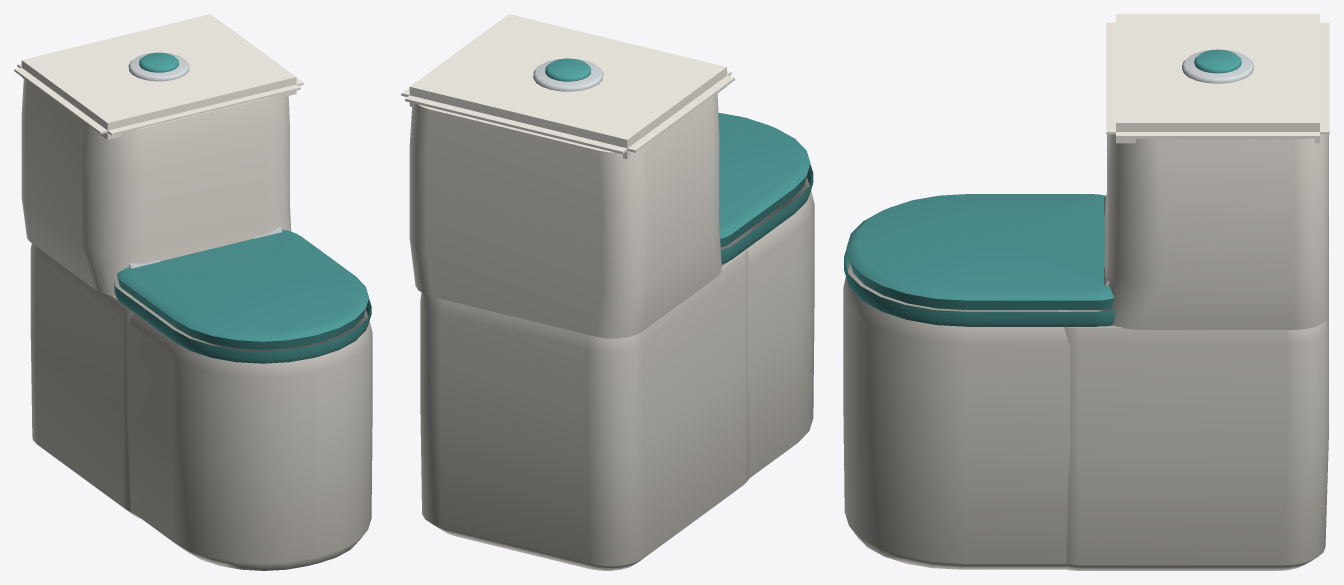
The model's file is Toilet_02.glb.
The picture shows the model from 3 angles, left to right: view 1: azimuth 30°, elevation 25°; view 2: azimuth 150°, elevation 25°; view 3: azimuth 270°, elevation 25°; orthographic projection. The views are drawn at different scales.
Parts seen in each view (by area): view 1: SM_Toilet_02; view 2: SM_Toilet_02; view 3: SM_Toilet_02.
Boxes of the visible parts, x1,y1,x2,y2 form: SM_Toilet_02: (14,14,372,570); SM_Toilet_02: (401,14,814,570); SM_Toilet_02: (843,14,1329,570).
Size of the model in its own units: 0.4 by 0.738 by 0.701.
1 material, 1 textured.
